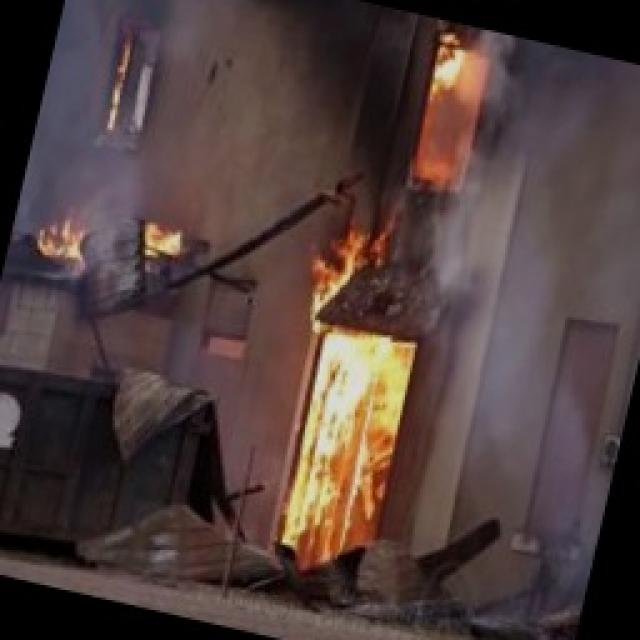fire: (272, 316, 416, 566), (399, 17, 511, 185)
